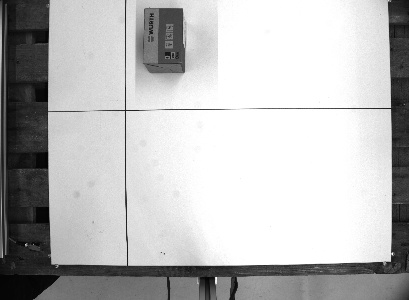b4: (140, 4, 189, 74)
